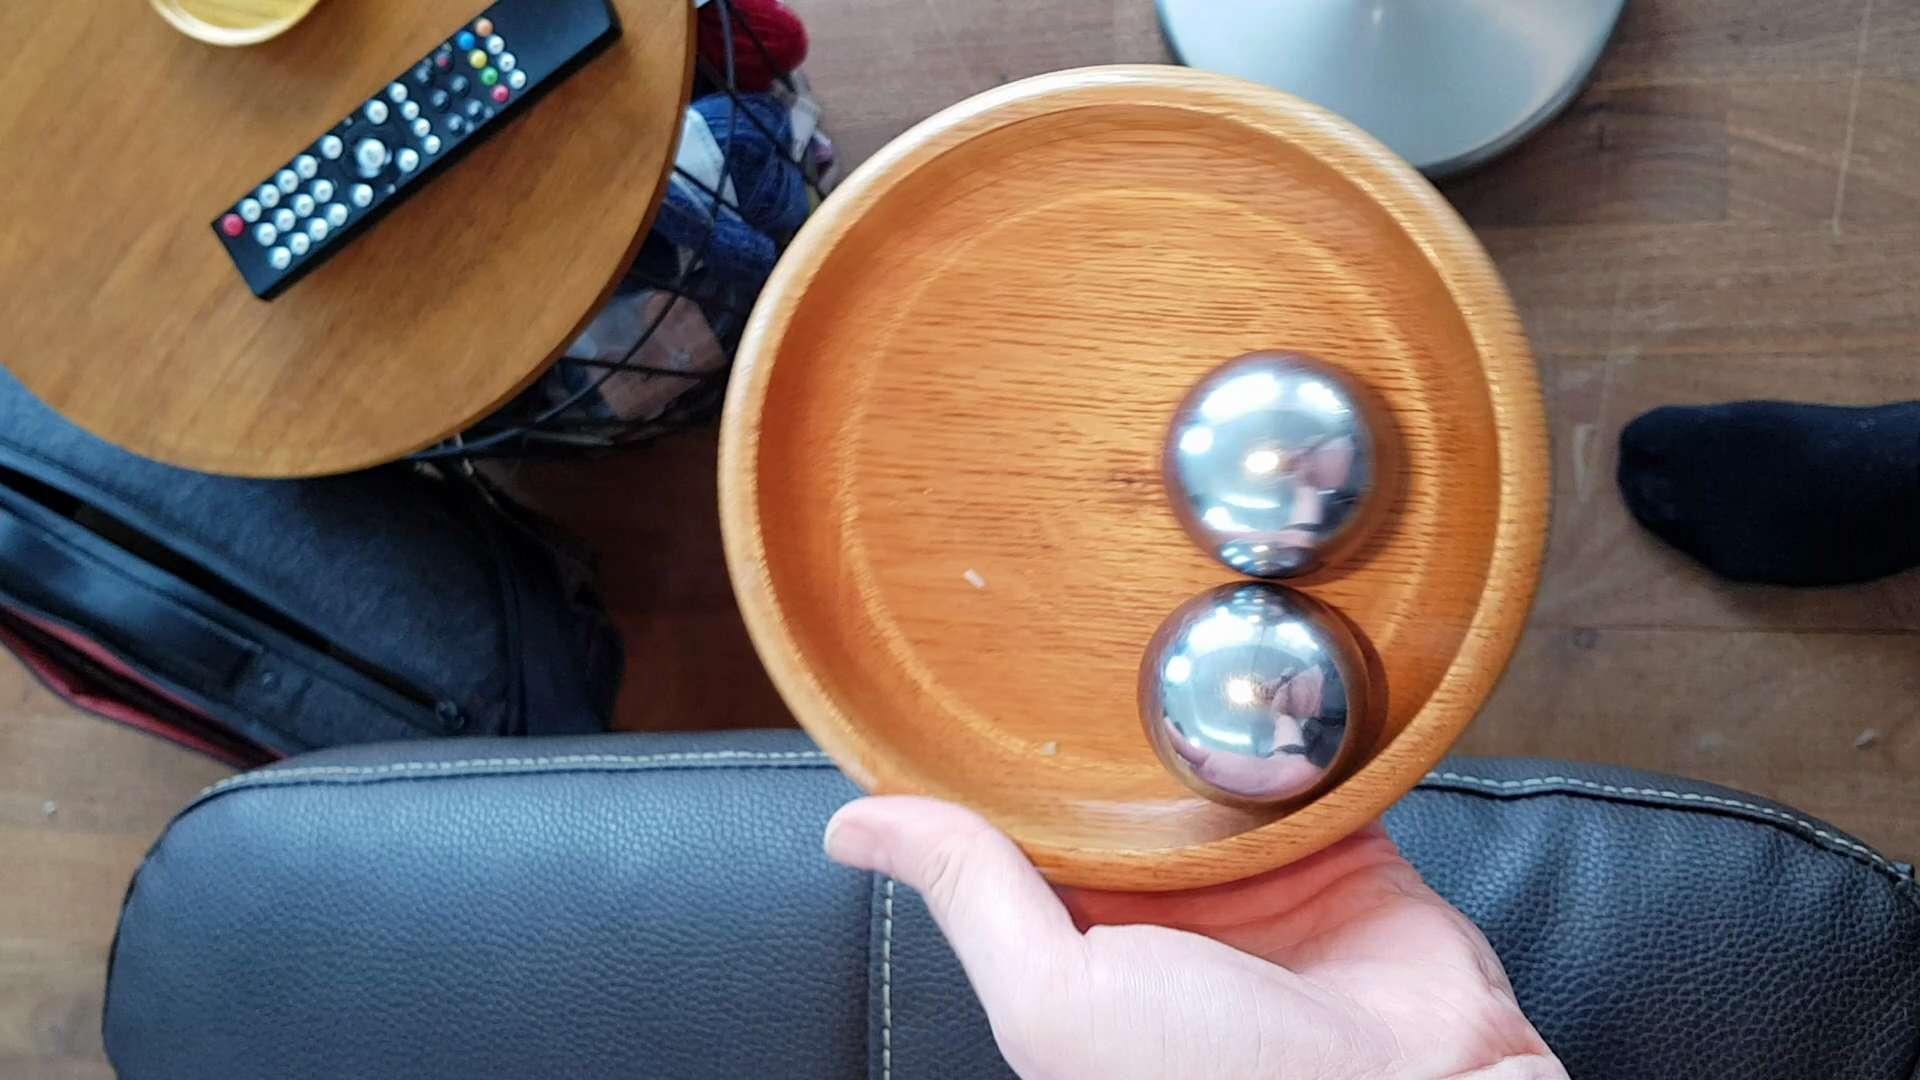sphere: (1126, 580, 1395, 819), (1147, 348, 1406, 578)
